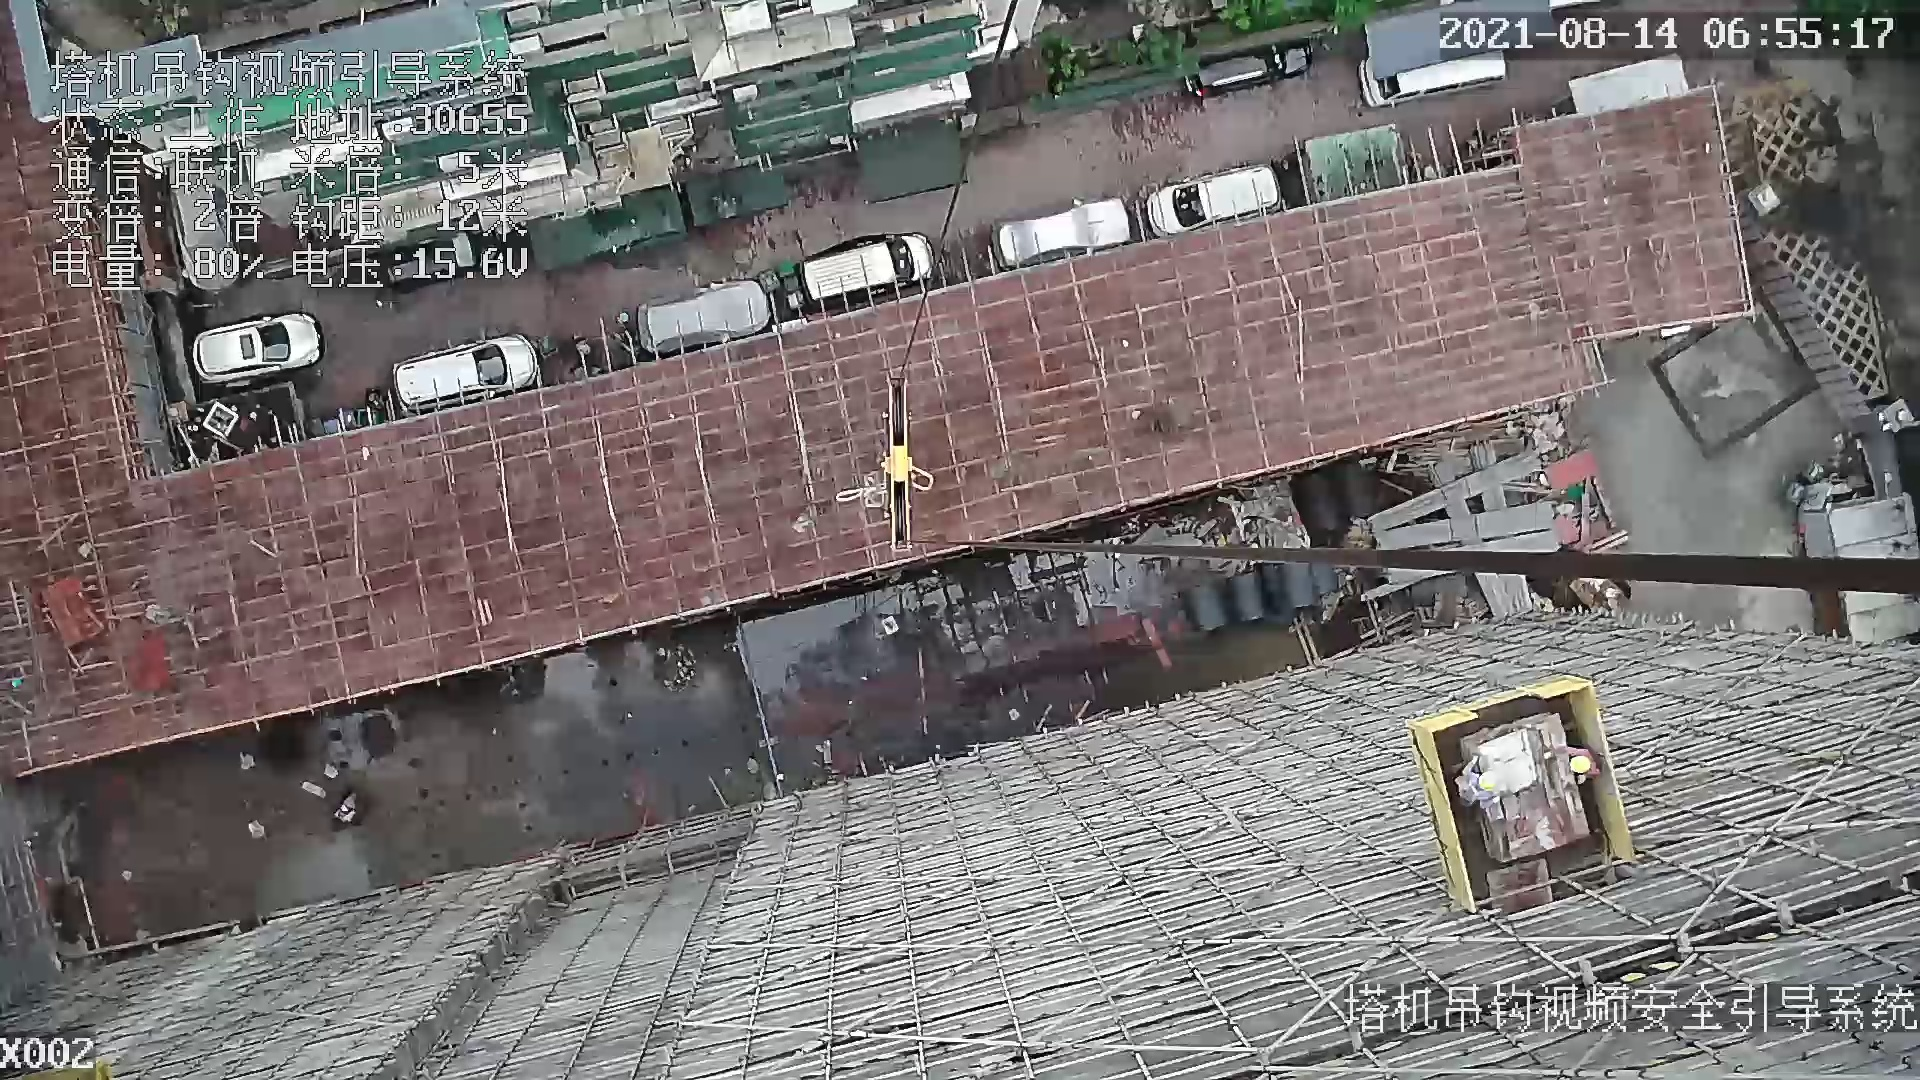board: (1461, 712, 1590, 861)
helmet: (1480, 771, 1498, 791), (1569, 756, 1590, 773)
hook: (869, 373, 933, 551)
person: (1547, 745, 1604, 786), (1458, 762, 1508, 805)
rebar: (1370, 452, 1540, 531), (1375, 500, 1555, 551), (1438, 532, 1555, 551), (1473, 572, 1514, 614), (1505, 575, 1534, 610)
